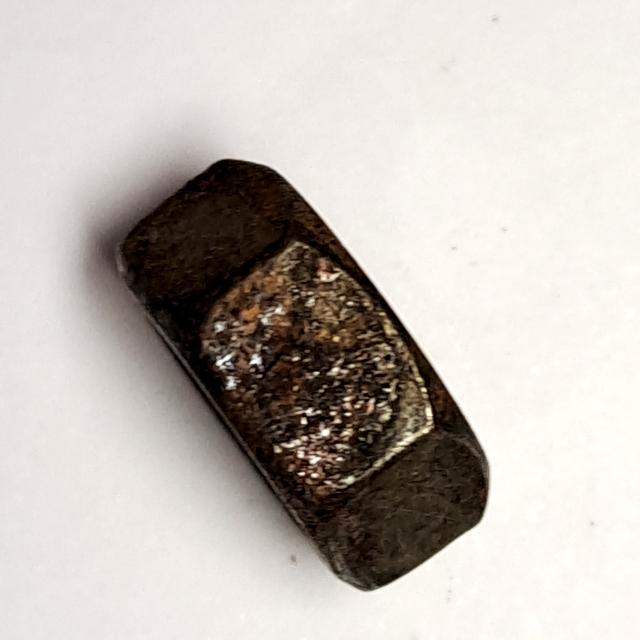Side_Rust: (94, 141, 514, 609)
